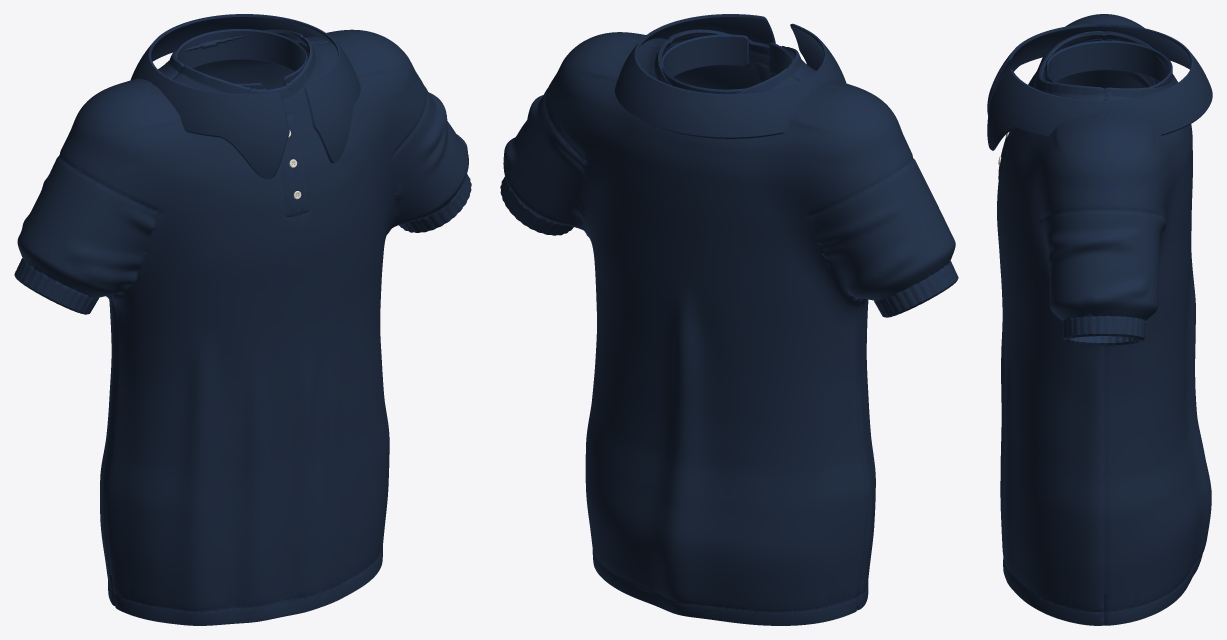
File: 04_polo_pbr.glb
3 renders of one model, left to right at view 1: azimuth 30°, elevation 25°; view 2: azimuth 150°, elevation 25°; view 3: azimuth 270°, elevation 25°, orthographic. The views are drawn at different scales.
Parts seen in each view (by area): view 1: Camiseta PBR; view 2: Camiseta PBR; view 3: Camiseta PBR.
Boxes of the visible parts, <box> form: Camiseta PBR: <box>14,14,471,625</box>; Camiseta PBR: <box>500,14,958,625</box>; Camiseta PBR: <box>987,14,1212,625</box>.
Size of the model in its own units: 0.6563 by 0.7451 by 0.2998.
2 materials, 1 textured.
